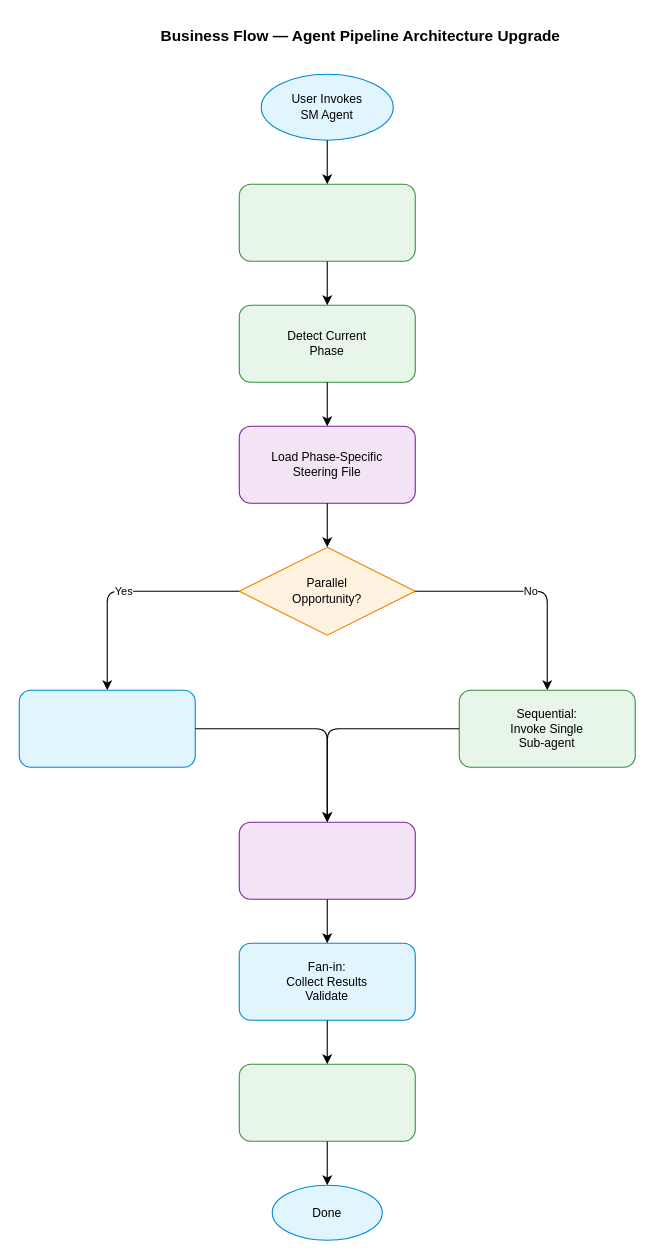
Image size: 655x1260. Some labels were removed from this diagram. The centre of each missing label's shape, as x and y in pixels:
Advance Pipeline: the point at 326,1102
Build Progressive Disclosure Context (L0 + L1): the point at 326,860
Fan-out: Dispatch Parallel Sub-agents: the point at 106,728
Load SM Core Orchestrator: the point at 326,222
